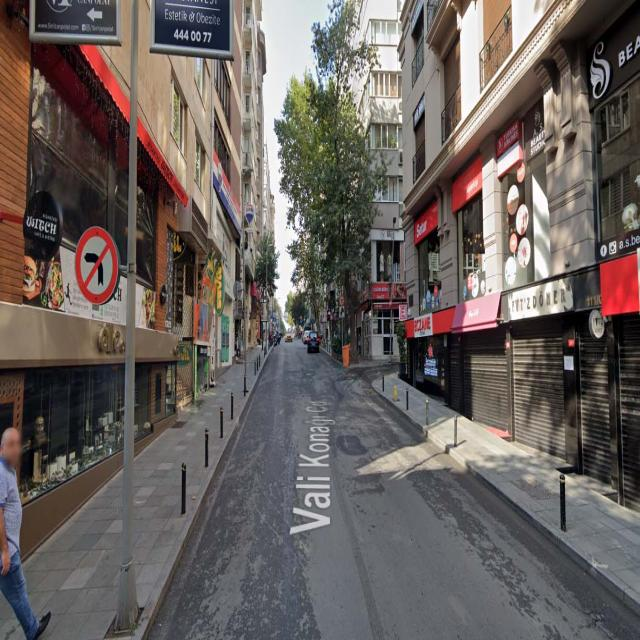soladonulmez: (75, 226, 118, 305)
